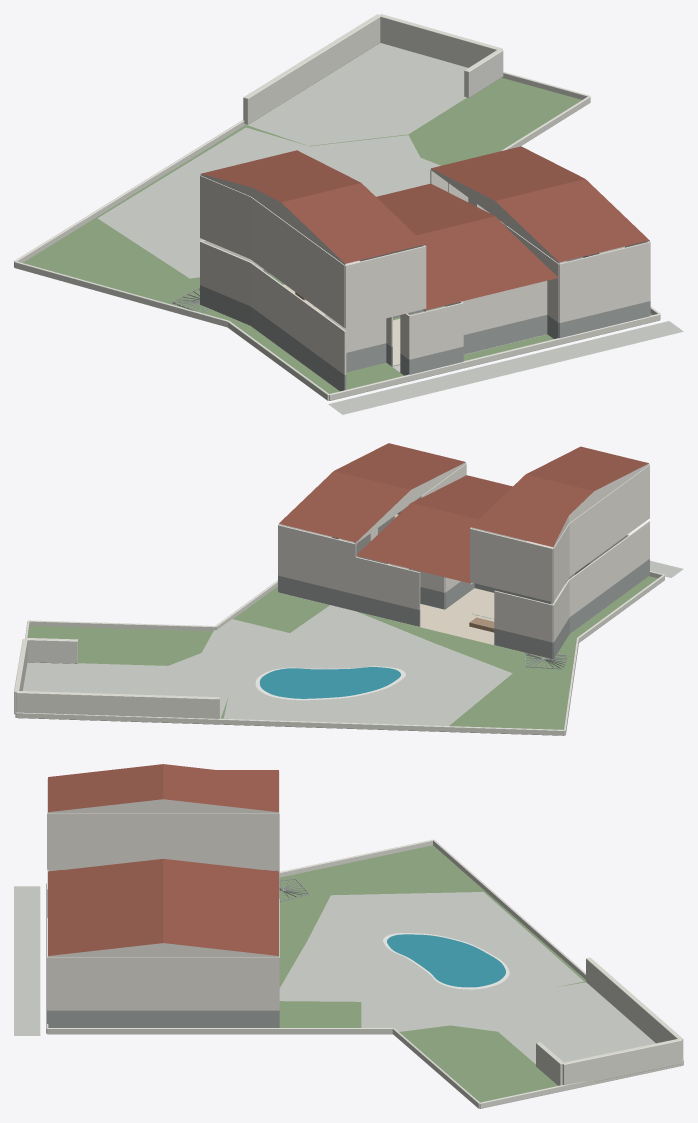
Rendered from casa-2071-maqueta-revision.glb.
The picture shows the model from 3 angles, top to bottom: view 1: azimuth 30°, elevation 25°; view 2: azimuth 150°, elevation 25°; view 3: azimuth 270°, elevation 25°; orthographic projection. The views are drawn at different scales.
Visible parts, largest first — view 1: Contorno trazado de la planta - no mensura, Solado alrededor de pileta, GARAJE / SALIDA, Tejas · central · faldón 2, Tejas · right-wing · faldón 2, Tejas · left-wing · faldón 2, PA · envolvente izquierda 4, MURO VISUAL 20 · eje en píxeles · alto 0, PA · envolvente izquierda 3, Acceso Zeballos, Tejas · right-wing · faldón 1, MURO VISUAL 04 · eje en píxeles · alto 0 (+24 smaller); view 2: Solado alrededor de pileta, Contorno trazado de la planta - no mensura, Tejas · central · faldón 1, GARAJE / SALIDA, Tejas · right-wing · faldón 1, Tejas · left-wing · faldón 1, Exterior 10 0, PA · envolvente izquierda 1, PA · envolvente izquierda 4, MURO VISUAL 02 · eje en píxeles · alto 1, Limite de plano 4, Pileta - espejo de agua (+19 smaller); view 3: Solado alrededor de pileta, Contorno trazado de la planta - no mensura, MURO VISUAL 05 · eje en píxeles · alto 0, PA · envolvente izquierda 2, GARAJE / SALIDA, Tejas · central · faldón 1, Tejas · central · faldón 2, Tejas · right-wing · faldón 2, Tejas · right-wing · faldón 1, Tejas · left-wing · faldón 1, MURO VISUAL 05 · eje en píxeles · corte, Tejas · left-wing · faldón 2 (+13 smaller).
Boxes of the visible parts, x1,y1,x2,y2 form: Contorno trazado de la planta - no mensura: (23,77,652,393); Solado alrededor de pileta: (97,127,440,278); GARAJE / SALIDA: (246,43,467,145); Tejas · central · faldón 2: (416,216,558,310); Tejas · right-wing · faldón 2: (495,179,649,262); Tejas · left-wing · faldón 2: (281,183,424,263); PA · envolvente izquierda 4: (250,197,345,327); MURO VISUAL 20 · eje en píxeles · alto 0: (559,242,650,322); PA · envolvente izquierda 3: (345,246,425,327); Acceso Zeballos: (328,321,683,414); Tejas · right-wing · faldón 1: (431,146,584,200); MURO VISUAL 04 · eje en píxeles · alto 0: (250,262,346,374); Solado alrededor de pileta: (168,605,512,725); Contorno trazado de la planta - no mensura: (28,576,657,729); Tejas · central · faldón 1: (356,503,478,583); GARAJE / SALIDA: (23,662,229,718); Tejas · right-wing · faldón 1: (279,471,410,542); Tejas · left-wing · faldón 1: (471,474,593,546); Exterior 10 0: (16,690,219,718); PA · envolvente izquierda 1: (470,528,552,602); PA · envolvente izquierda 4: (569,464,649,576); MURO VISUAL 02 · eje en píxeles · alto 1: (278,525,356,594); Limite de plano 4: (16,712,564,735); Pileta - espejo de agua: (259,667,400,698); Solado alrededor de pileta: (279,892,583,1031); Contorno trazado de la planta - no mensura: (279,845,585,1102); MURO VISUAL 05 · eje en píxeles · alto 0: (48,957,278,1010); PA · envolvente izquierda 2: (48,813,278,869); GARAJE / SALIDA: (497,982,655,1064); Tejas · central · faldón 1: (163,859,278,916); Tejas · central · faldón 2: (48,859,163,916); Tejas · right-wing · faldón 2: (48,903,163,955); Tejas · right-wing · faldón 1: (163,903,278,955); Tejas · left-wing · faldón 1: (163,764,278,812); MURO VISUAL 05 · eje en píxeles · corte: (48,1010,278,1027); Tejas · left-wing · faldón 2: (48,764,163,812).
Size of the model in its own units: 26.1 by 6.09 by 27.99.
